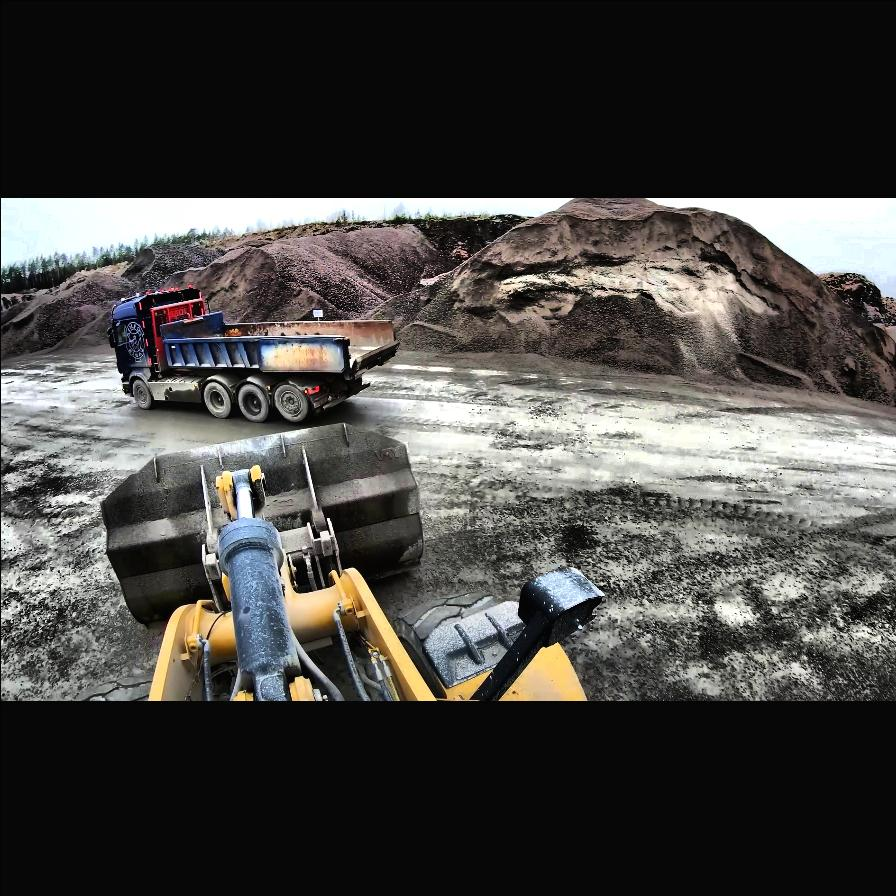anchor: (213, 463, 265, 518)
pile of gravel: (356, 196, 896, 414), (0, 216, 414, 372)
